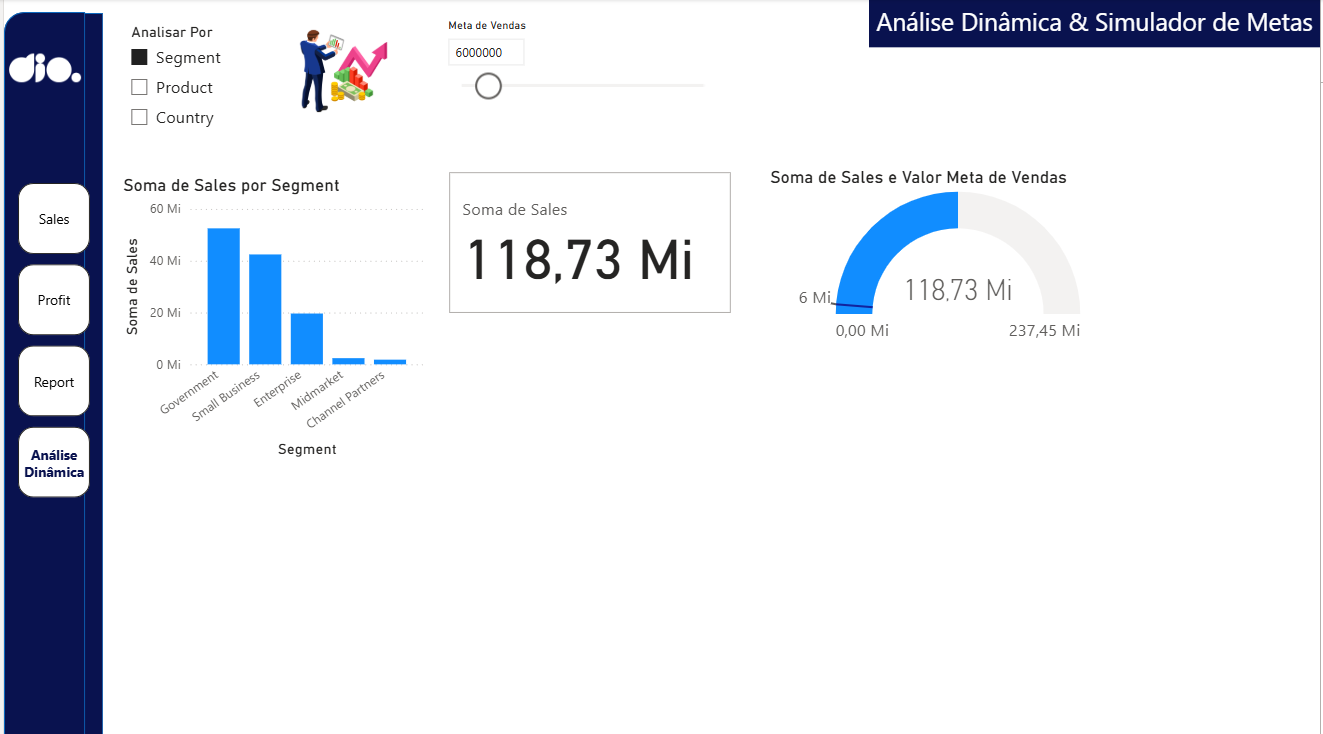

This screenshot's page, from the dashboard's own definition file:
{"tool":"powerbi","page":{"name":"Análise Dinâmica","canvas":[1280,720],"ordinal":3},"visuals":[{"type":"shape","box":[0,12.9,79.1,706.8],"z":0,"group":"g1"},{"type":"slicer","fields":{"Values":["Analisar Por .Analisar Por "]},"box":[110.9,18.5,144.9,119.6],"z":0},{"type":"shape","box":[0,13.8,96.4,706.2],"z":1000},{"type":"image","title":"logo_dio","box":[0,35.2,80.5,63.3],"z":1000,"group":"g1"},{"type":"image","box":[264.4,-1,154.8,141.4],"z":2000,"group":"g1"},{"type":"clusteredColumnChart","fields":{"Category":["financials.Segment"],"Y":["Sum(financials. Sales)"]},"box":[110.9,171.2,302.5,279.1],"z":2000},{"type":"group","id":"g1","title":"Layout","box":[0,-1,419.2,720.7],"z":3000},{"type":"pageNavigator","box":[13.6,179,70,306.4],"z":4000},{"type":"slicer","fields":{"Values":["Meta de Vendas.Meta de Vendas"]},"box":[419.2,14.6,284,109.9],"z":7000},{"type":"cardVisual","fields":{"Data":["Sum(financials. Sales)"]},"box":[428,163.4,284,147.8],"z":8000},{"type":"gauge","fields":{"Y":["Sum(financials. Sales)"],"TargetValue":["Meta de Vendas.Valor Meta de Vendas"]},"box":[740.2,163.4,334.6,179],"z":8001},{"type":"textbox","box":[142,519,452,201],"z":8003},{"type":"textbox","box":[841.3,0,438.7,46.7],"z":8004}]}

Visuals, with their boxes in screenshot pixels (x1, y1, x2, y2), scaled from the page's 1280x720 canvas onto the 1323x734 screenshot:
shape: (0,13,82,733)
slicer - Analisar Por .Analisar Por : (115,19,264,141)
shape: (0,14,100,733)
"logo_dio" image: (0,36,83,100)
image: (273,0,433,143)
clusteredColumnChart - financials.Segment x Sum(financials. Sales): (115,175,427,459)
"Layout" group: (0,0,433,733)
pageNavigator: (14,182,86,495)
slicer - Meta de Vendas.Meta de Vendas: (433,15,727,127)
cardVisual - Sum(financials. Sales): (442,167,736,317)
gauge - Sum(financials. Sales) x Meta de Vendas.Valor Meta de Vendas: (765,167,1111,349)
textbox: (147,529,614,733)
textbox: (870,0,1322,48)
